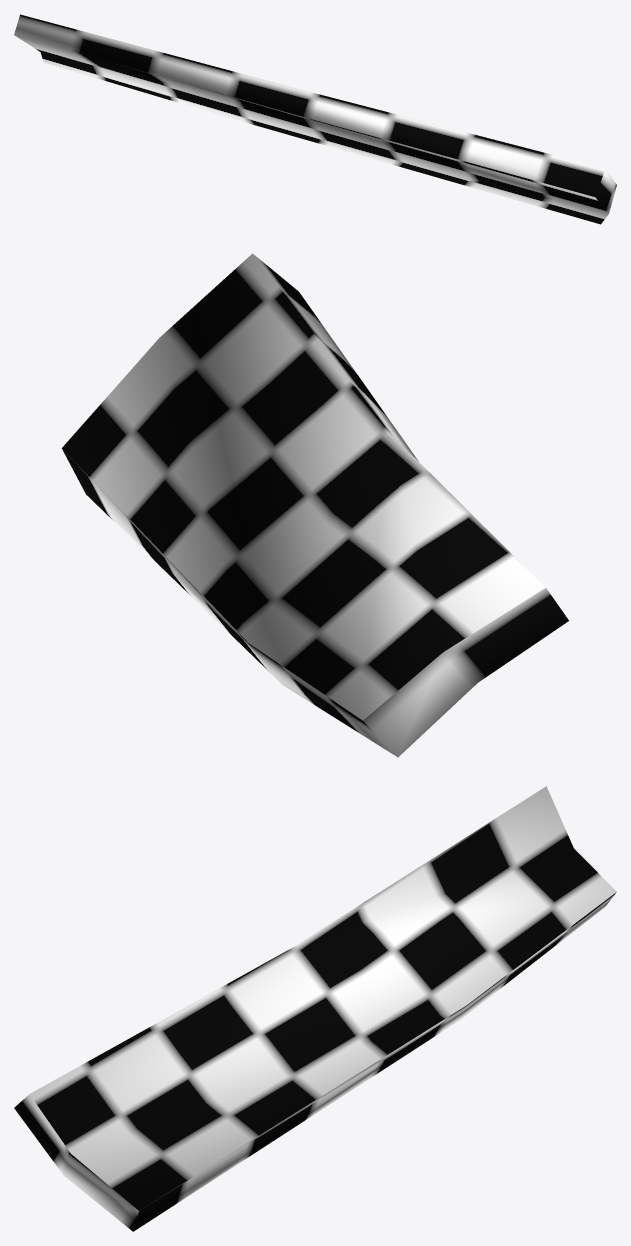
The model's file is initqu73.dae.
3 renders of one model, top to bottom at view 1: azimuth 30°, elevation 25°; view 2: azimuth 150°, elevation 25°; view 3: azimuth 270°, elevation 25°, orthographic. The views are drawn at different scales.
Parts seen in each view (by area): view 1: item; view 2: item; view 3: item.
Boxes of the visible parts, box(x1,y1,x2,y2) form: item: box(14, 14, 616, 224); item: box(61, 253, 568, 757); item: box(14, 786, 616, 1231).
Size of the model in its own units: 1.64 by 1.71 by 0.6666.
Materials: 1 (1 with a texture image).
